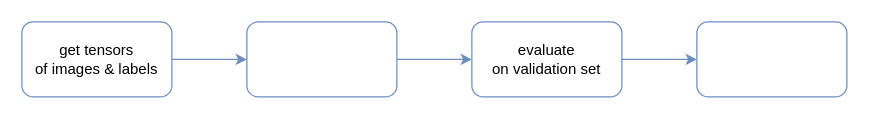
The diagram is 869 pixels wide and 119 high, and some of its shapes have lost their labels. Here are the shapes that lost their labels. From the top down, the box of each, then its label:
(246, 21, 397, 97): predict
(696, 21, 847, 97): save log
